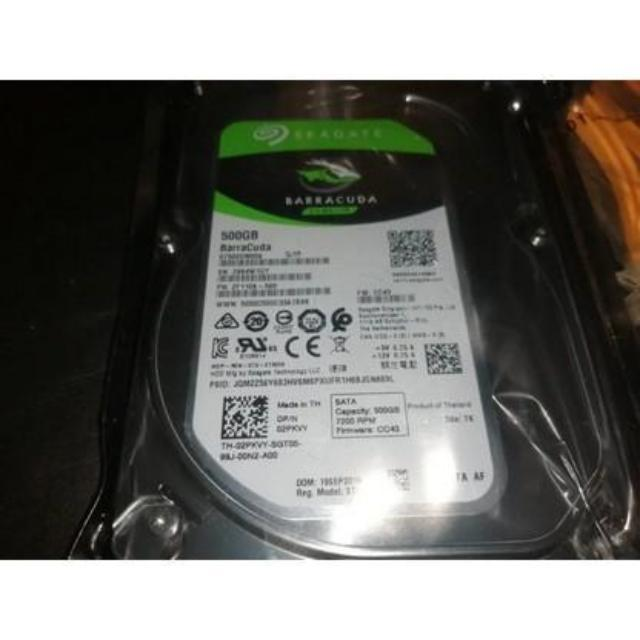DISK: (86, 85, 640, 560)
